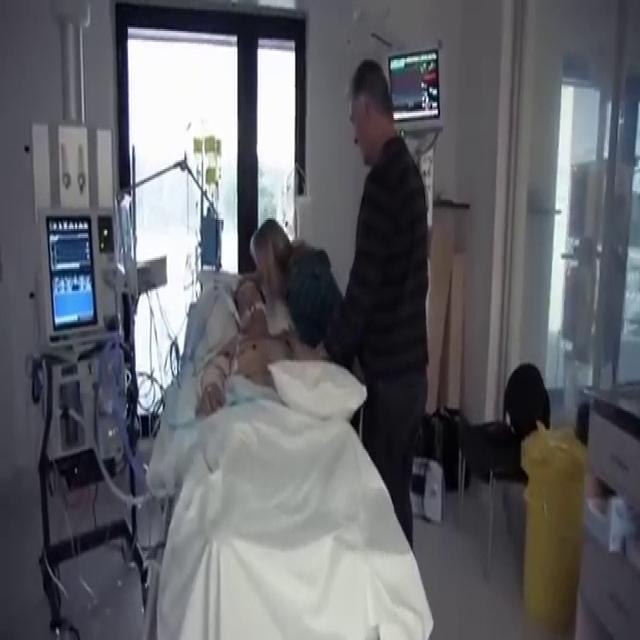monitor: (42, 209, 100, 340), (386, 46, 441, 126)
nurse: (321, 56, 430, 551)
patient: (145, 226, 433, 638), (194, 236, 346, 416)
